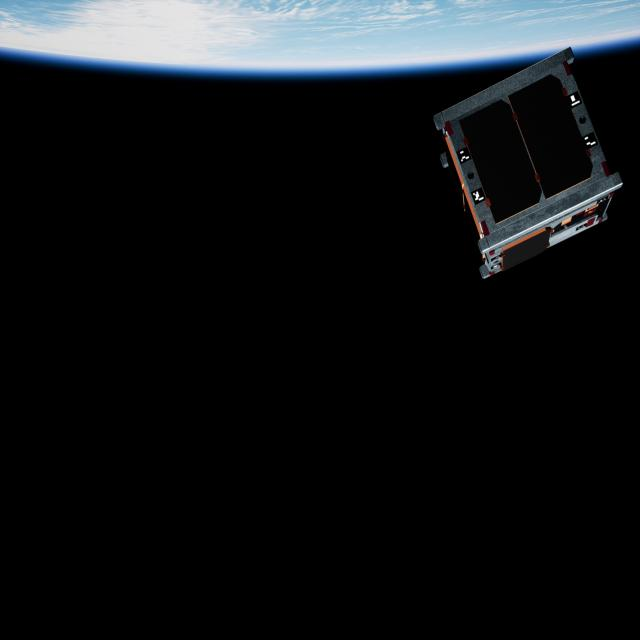medium_debris: (427, 44, 624, 283)
